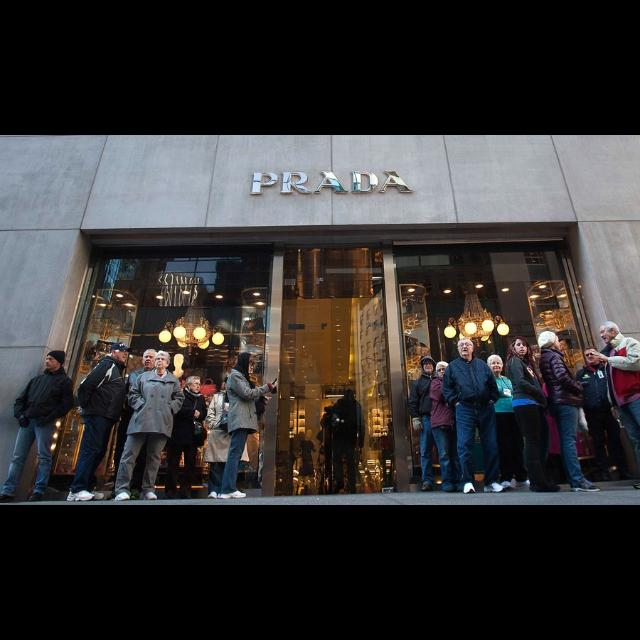head: (600, 322, 620, 346), (46, 351, 66, 372), (238, 353, 256, 375), (111, 344, 129, 364), (141, 350, 159, 370), (542, 334, 562, 352), (513, 337, 529, 357), (156, 351, 172, 369), (458, 339, 474, 357), (488, 356, 504, 374), (584, 347, 600, 365), (188, 376, 202, 394), (436, 362, 450, 380), (423, 357, 435, 373), (223, 378, 234, 392), (344, 390, 356, 400)
person: (0, 349, 76, 504), (440, 338, 510, 496), (114, 350, 186, 502), (66, 341, 132, 503), (537, 331, 603, 493), (506, 336, 564, 496), (219, 352, 279, 501), (106, 346, 164, 500), (575, 345, 639, 483), (408, 353, 458, 492), (481, 354, 531, 492), (160, 376, 210, 502), (204, 373, 252, 501), (429, 362, 475, 494), (329, 390, 367, 496)
